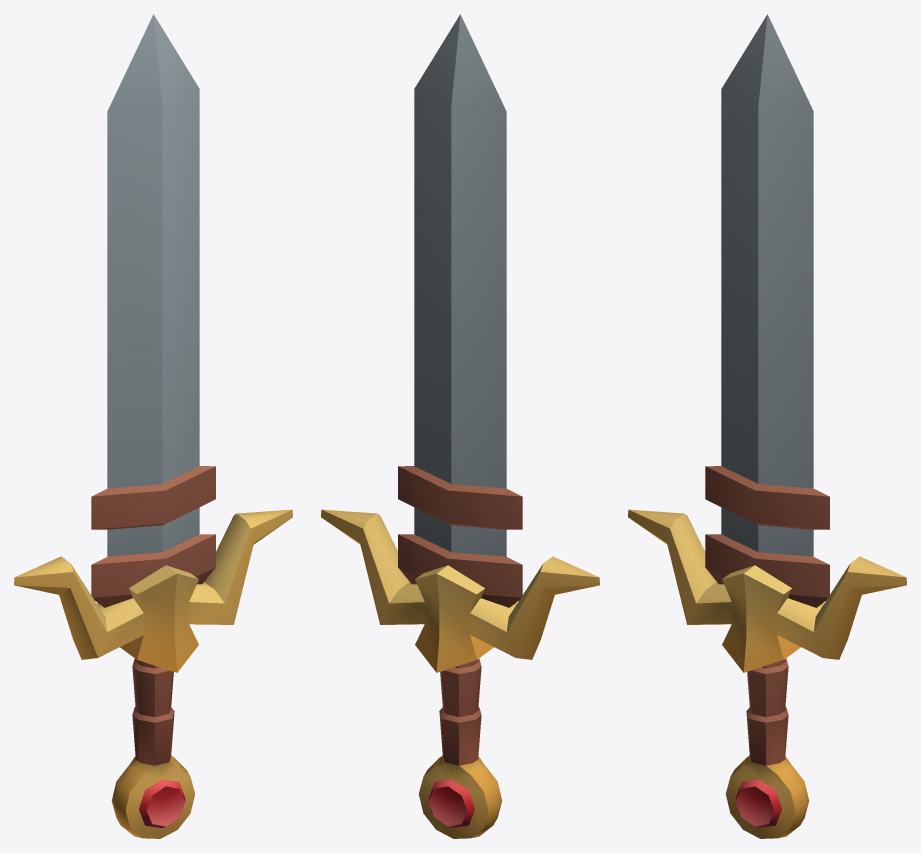
The model's file is sword_2handed_color.glb.
The picture shows the model from 3 angles, left to right: view 1: azimuth 30°, elevation 25°; view 2: azimuth 150°, elevation 25°; view 3: azimuth 330°, elevation 25°; orthographic projection.
Visible parts, largest first — view 1: sword_2handed_color; view 2: sword_2handed_color; view 3: sword_2handed_color.
Part boxes in pixels (<box>): sword_2handed_color: <box>14,14,292,838</box>; sword_2handed_color: <box>321,14,599,838</box>; sword_2handed_color: <box>628,14,906,838</box>.
Size of the model in its own units: 0.839 by 2.37 by 0.248.
1 material, 1 textured.
